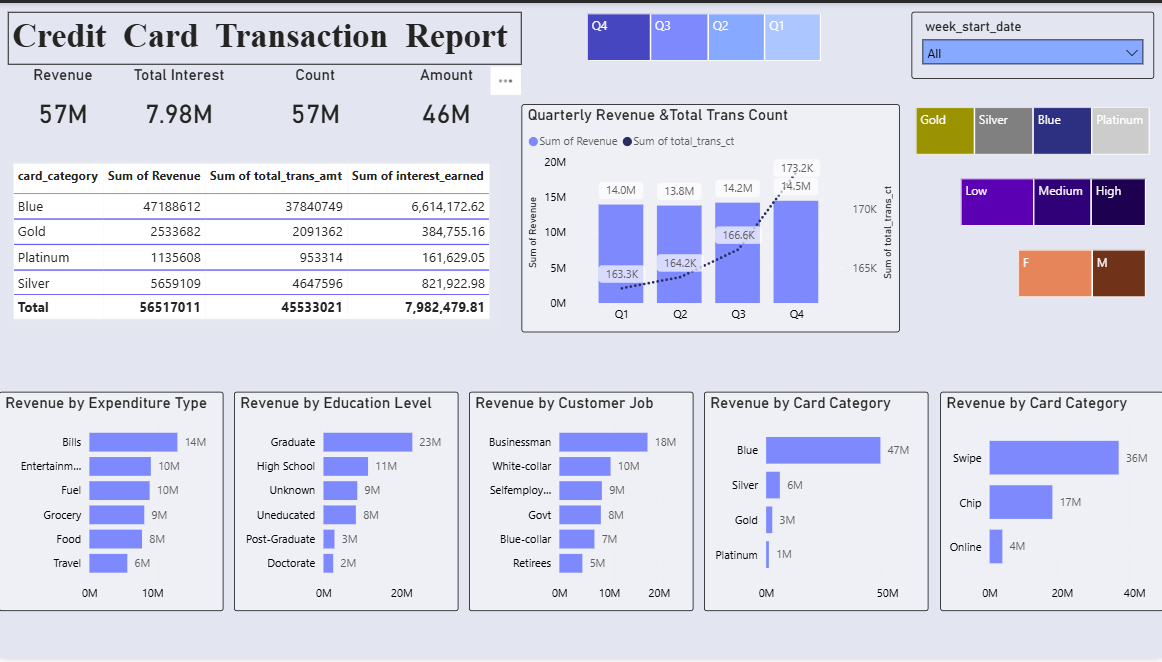

This screenshot's page, from the dashboard's own definition file:
{"tool":"powerbi","page":{"name":"Credit Card Transaction","canvas":[1280,720],"ordinal":0},"visuals":[{"type":"textbox","box":[9.3,9.3,564,59.3],"z":0},{"type":"lineStackedColumnComboChart","title":"Quarterly Revenue &Total Trans Count","fields":{"Category":["public cc_detail.qtr"],"Y":["Sum(public cc_detail.Revenue)"],"Y2":["Sum(public cc_detail.total_trans_ct)"]},"box":[573.3,110.5,415.1,250],"z":1000},{"type":"barChart","title":"Revenue by Expenditure Type","fields":{"Y":["Sum(public cc_detail.Revenue)"],"Category":["public cc_detail.exp_type"]},"box":[0,426.7,246.5,240.7],"z":2000},{"type":"barChart","title":"Revenue by Education Level","fields":{"Y":["Sum(public cc_detail.Revenue)"],"Category":["public cust_detail.education_level"]},"box":[258.1,426.7,246.5,240.7],"z":3000},{"type":"barChart","title":"Revenue by Customer Job","fields":{"Y":["Sum(public cc_detail.Revenue)"],"Category":["public cust_detail.customer_job"]},"box":[516.3,426.7,246.5,240.7],"z":4000},{"type":"barChart","title":"Revenue by Card Category","fields":{"Y":["Sum(public cc_detail.Revenue)"],"Category":["public cc_detail.card_category","public cust_detail.customer_job"]},"box":[774.4,426.7,246.5,240.7],"z":5000},{"type":"barChart","title":"Revenue by Card Category","fields":{"Y":["Sum(public cc_detail.Revenue)"],"Category":["public cc_detail.use_chip"]},"box":[1033.7,426.7,246.5,240.7],"z":6000},{"type":"tableEx","fields":{"Values":["public cc_detail.card_category","Sum(public cc_detail.Revenue)","Sum(public cc_detail.total_trans_amt)","Sum(public cc_detail.interest_earned)"]},"box":[9.3,172.1,543,188.4],"z":7000},{"type":"card","title":"Revenue","fields":{"Values":["Sum(public cc_detail.Revenue)"]},"box":[9.3,68.6,120.9,83.7],"z":8000},{"type":"card","title":"Total Interest","fields":{"Values":["Sum(public cc_detail.interest_earned)"]},"box":[137.2,68.6,120.9,83.7],"z":9000},{"type":"card","title":"Amount","fields":{"Values":["Sum(public cc_detail.total_trans_amt)"]},"box":[431.4,68.6,120.9,83.7],"z":10000},{"type":"card","title":"Count","fields":{"Values":["Sum(public cc_detail.Revenue)"]},"box":[287.2,68.6,120.9,83.7],"z":11000},{"type":"slicer","fields":{"Values":["public cc_detail.week_start_date"]},"box":[1001.2,9.3,266.3,73.3],"z":12000},{"type":"treemap","fields":{"Group":["public cc_detail.qtr"],"Values":["Avg(public cust_detail.client_num)"]},"box":[640.8,6.9,266.2,61.7],"z":13000},{"type":"treemap","fields":{"Group":["public cust_detail.gender"],"Values":["CountNonNull(public cust_detail.client_num)"]},"box":[1114.2,266.2,149.6,61.7],"z":14000},{"type":"treemap","fields":{"Group":["public cust_detail.IncomeGroup"],"Values":["CountNonNull(public cust_detail.client_num)"]},"box":[1051.1,188,212.7,61.7],"z":15000},{"type":"treemap","fields":{"Group":["public cc_detail.card_category"],"Values":["Avg(public cust_detail.client_num)"]},"box":[1001.7,109.8,266.2,61.7],"z":16000}]}

Visuals, with their boxes in screenshot pixels (x1, y1, x2, y2), scaled from the page's 1280x720 canvas onto the 1162x662 screenshot:
textbox: region(8, 9, 520, 63)
"Quarterly Revenue &Total Trans Count" lineStackedColumnComboChart: region(520, 102, 897, 331)
"Revenue by Expenditure Type" barChart: region(0, 392, 224, 614)
"Revenue by Education Level" barChart: region(234, 392, 458, 614)
"Revenue by Customer Job" barChart: region(469, 392, 692, 614)
"Revenue by Card Category" barChart: region(703, 392, 927, 614)
"Revenue by Card Category" barChart: region(938, 392, 1161, 614)
tableEx - public cc_detail.card_category x Sum(public cc_detail.Revenue): region(8, 158, 501, 331)
"Revenue" card: region(8, 63, 118, 140)
"Total Interest" card: region(125, 63, 234, 140)
"Amount" card: region(392, 63, 501, 140)
"Count" card: region(261, 63, 370, 140)
slicer - public cc_detail.week_start_date: region(909, 9, 1151, 76)
treemap - public cc_detail.qtr x Avg(public cust_detail.client_num): region(582, 6, 823, 63)
treemap - public cust_detail.gender x CountNonNull(public cust_detail.client_num): region(1011, 245, 1147, 301)
treemap - public cust_detail.IncomeGroup x CountNonNull(public cust_detail.client_num): region(954, 173, 1147, 230)
treemap - public cc_detail.card_category x Avg(public cust_detail.client_num): region(909, 101, 1151, 158)
